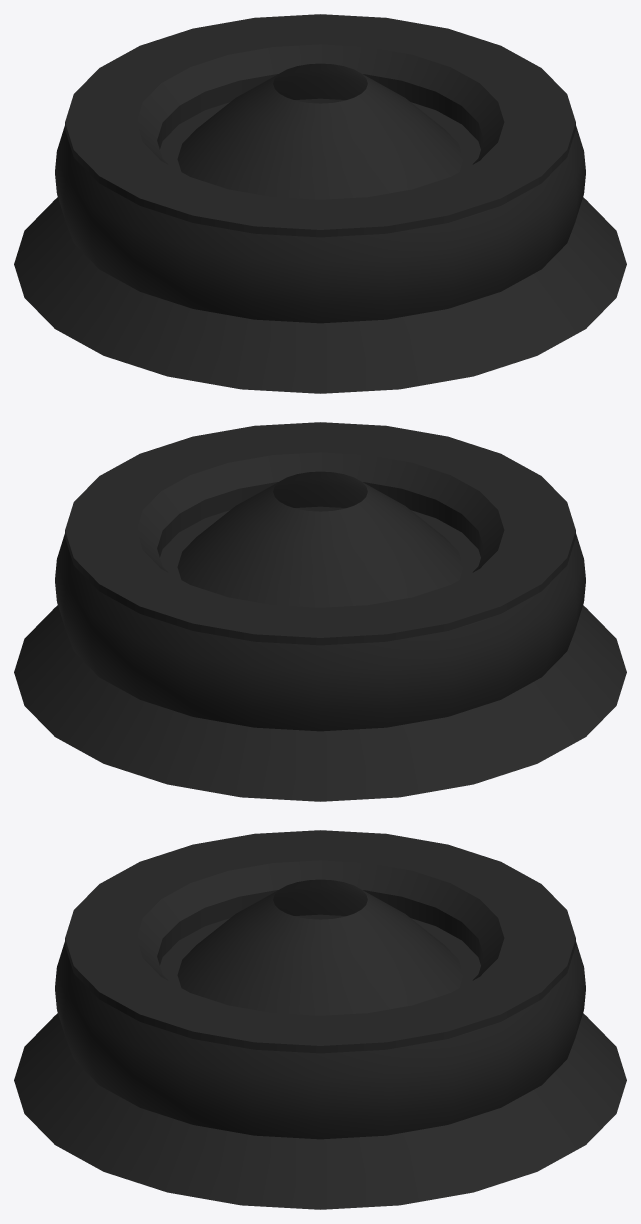
The model's file is Tantares_DockingMechanism_1.obj.
3 views of the same model, one above another, from view 1: azimuth 30°, elevation 25°; view 2: azimuth 150°, elevation 25°; view 3: azimuth 270°, elevation 25° (orthographic).
Parts seen in each view (by area): view 1: Tantares_DockingMechanism_1; view 2: Tantares_DockingMechanism_1; view 3: Tantares_DockingMechanism_1.
Boxes of the visible parts, left/top/right/bottom form: Tantares_DockingMechanism_1: left=14, top=14, right=626, bottom=393; Tantares_DockingMechanism_1: left=14, top=422, right=626, bottom=801; Tantares_DockingMechanism_1: left=14, top=830, right=626, bottom=1209.
Size of the model in its own units: 0.9375 by 0.305 by 0.9375.
